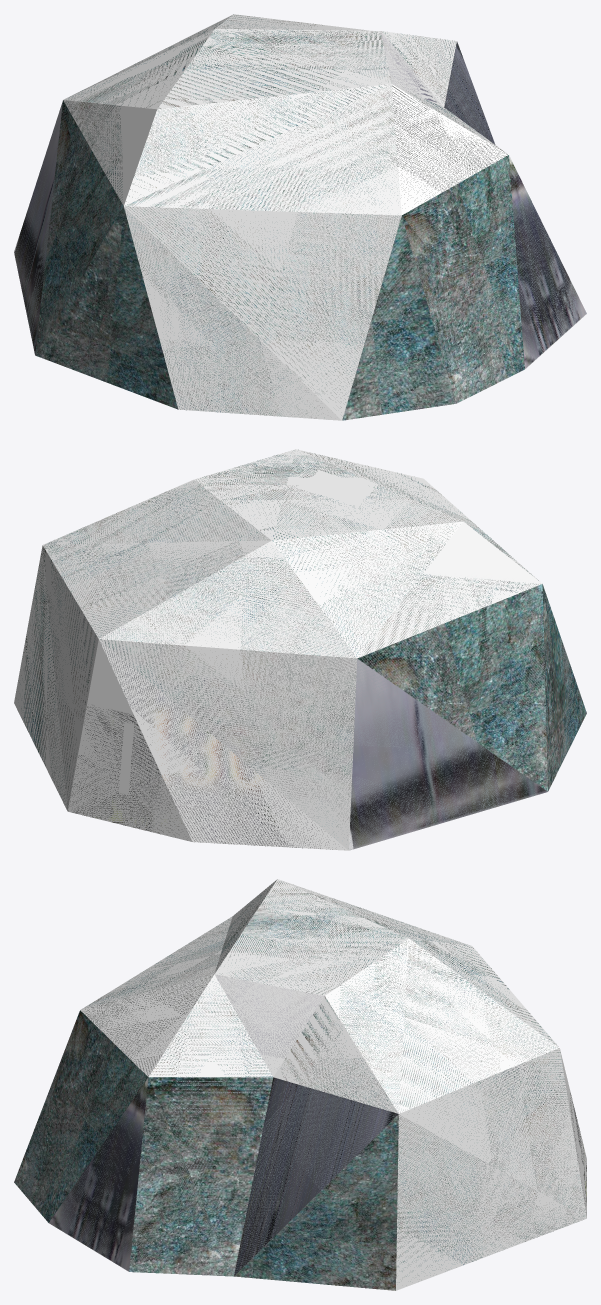
File: stone1.dae
The picture shows the model from 3 angles, top to bottom: view 1: azimuth 30°, elevation 25°; view 2: azimuth 150°, elevation 25°; view 3: azimuth 270°, elevation 25°; orthographic projection. The views are drawn at different scales.
Parts seen in each view (by area): view 1: SketchUp (×21); view 2: SketchUp (×15); view 3: SketchUp (×21).
Part boxes in pixels (x1,y1,x2,y2): SketchUp (×21): (14, 14, 586, 420); SketchUp (×15): (14, 449, 586, 850); SketchUp (×21): (14, 879, 586, 1290).
Size of the model in its own units: 34.05 by 35.21 by 15.35.
